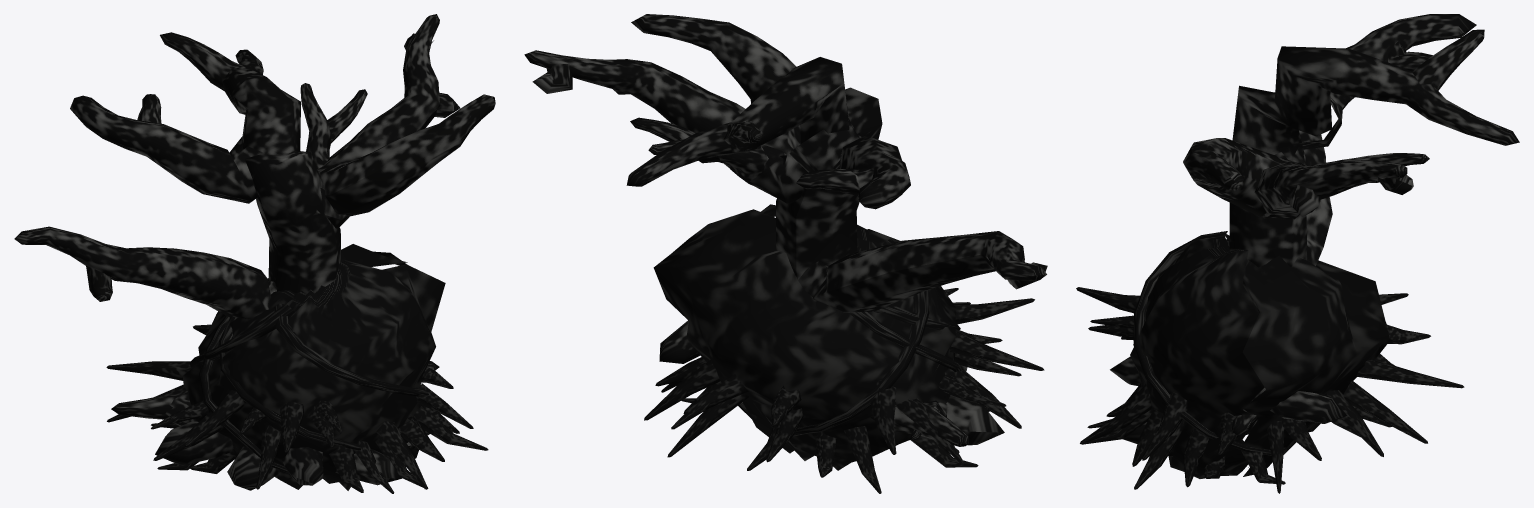
The model's file is ZonTreeDead202.glb.
3 renders of one model, left to right at view 1: azimuth 30°, elevation 25°; view 2: azimuth 150°, elevation 25°; view 3: azimuth 270°, elevation 25°, orthographic. The views are drawn at different scales.
Visible parts, largest first — view 1: ZonTreeDead202_limbs; view 2: ZonTreeDead202_limbs; view 3: ZonTreeDead202_limbs.
Boxes of the visible parts, <box> form: ZonTreeDead202_limbs: <box>14,14,495,493</box>; ZonTreeDead202_limbs: <box>524,14,1047,493</box>; ZonTreeDead202_limbs: <box>1076,14,1519,493</box>.
Bounding box in the file's own units: 6.75 × 5.54 × 5.36.
1 material, 1 textured.
